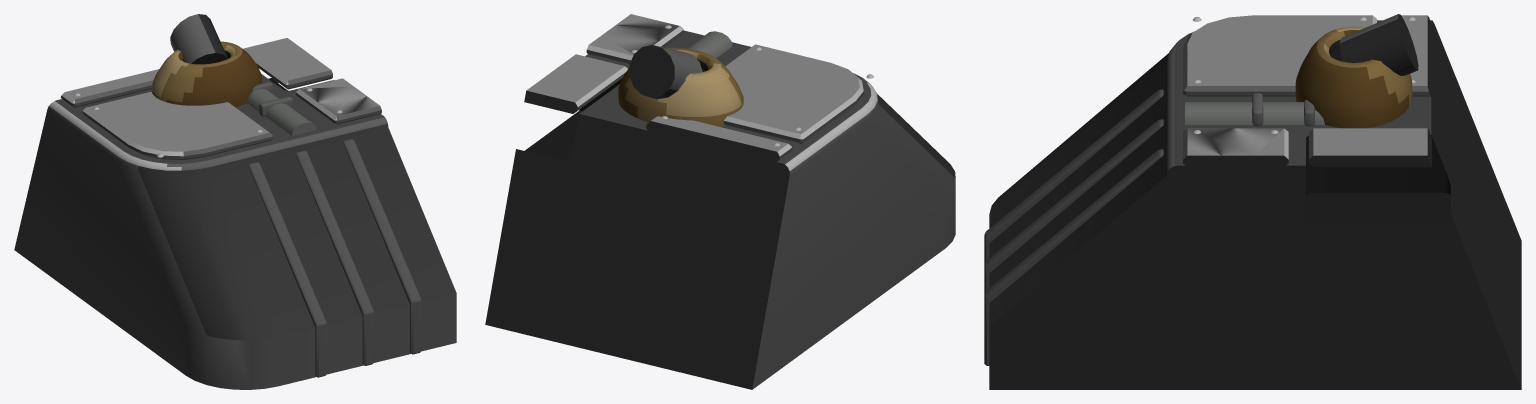
File: asteroid_rig_bl.glb
3 renders of one model, left to right at view 1: azimuth 30°, elevation 25°; view 2: azimuth 150°, elevation 25°; view 3: azimuth 270°, elevation 25°, orthographic. The views are drawn at different scales.
Visible parts, largest first — view 1: asteroid_rig_bl; view 2: asteroid_rig_bl; view 3: asteroid_rig_bl.
Part boxes in pixels (bbox=[...]): asteroid_rig_bl: bbox=[14, 14, 456, 389]; asteroid_rig_bl: bbox=[485, 14, 955, 389]; asteroid_rig_bl: bbox=[984, 14, 1521, 389].
Size of the model in its own units: 20 by 19.19 by 30.38.
